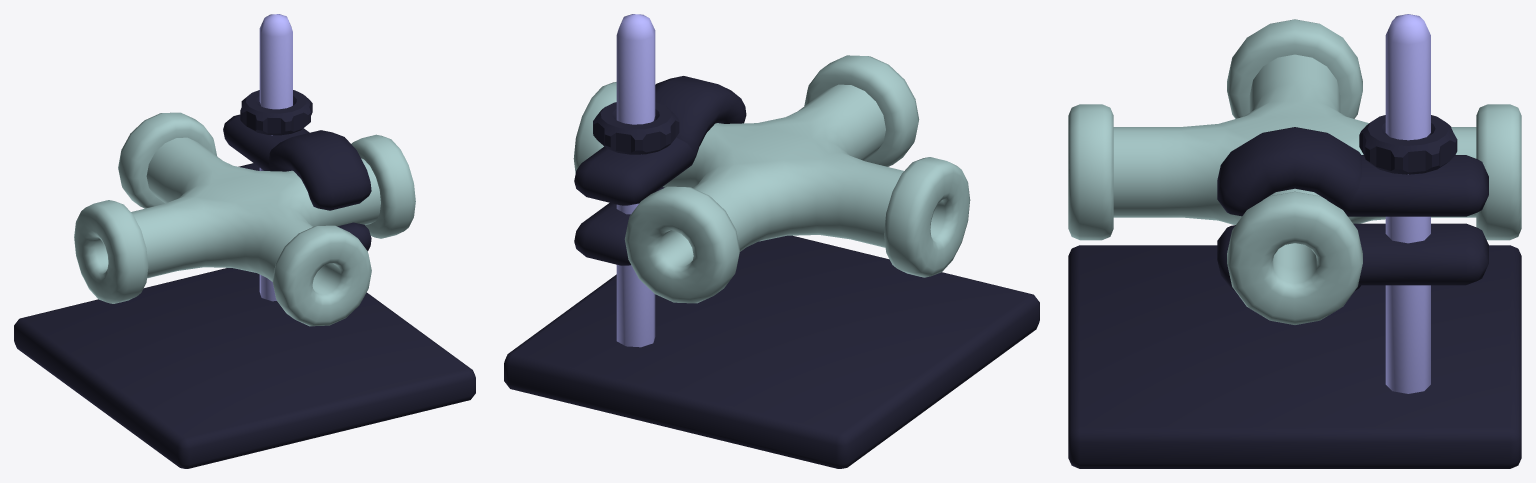
The model's file is LastLuna_Model_Station_Pipe_Quad.fbx.
The picture shows the model from 3 angles, left to right: view 1: azimuth 30°, elevation 25°; view 2: azimuth 150°, elevation 25°; view 3: azimuth 270°, elevation 25°; orthographic projection. The views are drawn at different scales.
Parts seen in each view (by area): view 1: Stand_Base_Small001, Pipe_Quad001, Pipe_Arm_Clamp_Upper001, Stand_Pole_Small001, Pipe_Arm_Clamp_Handle001, Pipe_Arm_Clamp_Lower001; view 2: Stand_Base_Small001, Pipe_Quad001, Pipe_Arm_Clamp_Upper001, Stand_Pole_Small001, Pipe_Arm_Clamp_Handle001, Pipe_Arm_Clamp_Lower001; view 3: Stand_Base_Small001, Pipe_Quad001, Pipe_Arm_Clamp_Upper001, Stand_Pole_Small001, Pipe_Arm_Clamp_Lower001, Pipe_Arm_Clamp_Handle001.
Part boxes in pixels (box(x1,y1,x2,y2)): Stand_Base_Small001: box(14, 268, 475, 468); Pipe_Quad001: box(74, 112, 415, 326); Pipe_Arm_Clamp_Upper001: box(223, 114, 371, 210); Stand_Pole_Small001: box(259, 14, 292, 301); Pipe_Arm_Clamp_Handle001: box(240, 90, 312, 135); Pipe_Arm_Clamp_Lower001: box(238, 163, 371, 250); Stand_Base_Small001: box(504, 235, 1039, 468); Pipe_Quad001: box(573, 55, 970, 303); Pipe_Arm_Clamp_Upper001: box(574, 76, 746, 205); Stand_Pole_Small001: box(616, 14, 655, 347); Pipe_Arm_Clamp_Handle001: box(593, 102, 679, 154); Pipe_Arm_Clamp_Lower001: box(574, 187, 664, 265); Stand_Base_Small001: box(1068, 245, 1521, 468); Pipe_Quad001: box(1068, 19, 1521, 324); Pipe_Arm_Clamp_Upper001: box(1217, 127, 1488, 216); Stand_Pole_Small001: box(1385, 14, 1430, 393); Pipe_Arm_Clamp_Lower001: box(1217, 223, 1488, 290); Pipe_Arm_Clamp_Handle001: box(1359, 115, 1457, 174).
Bounding box in the file's own units: 100 × 100 × 100.
